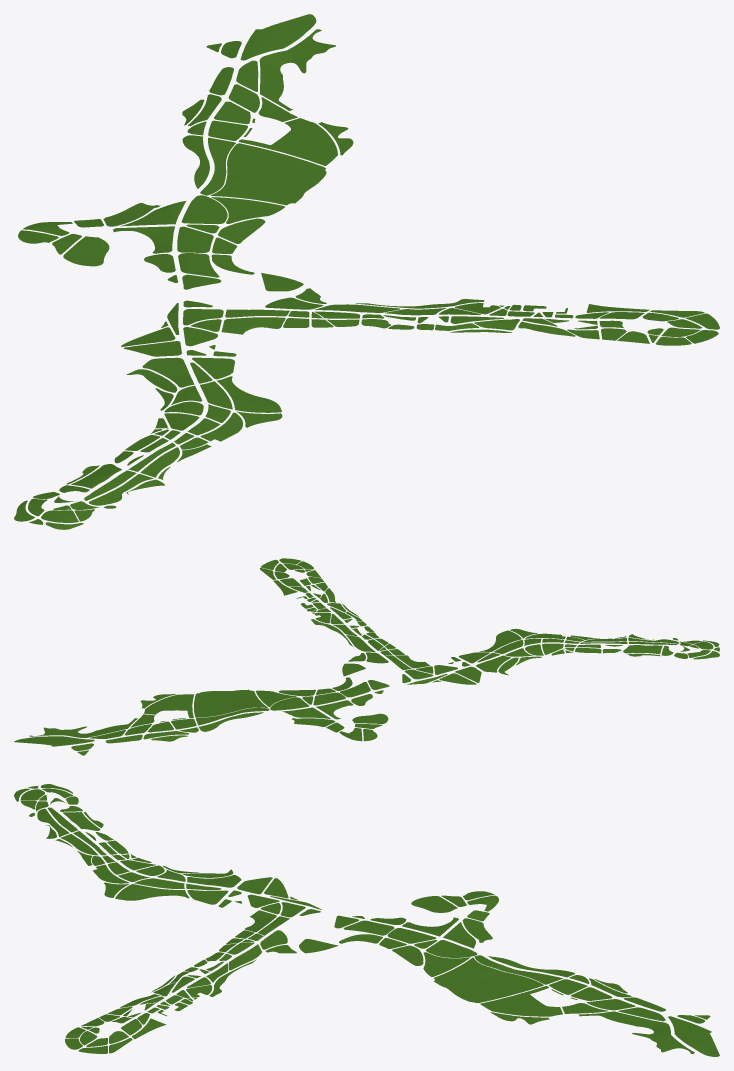
File: 16_Walking_Area.glb
The picture shows the model from 3 angles, top to bottom: view 1: azimuth 30°, elevation 25°; view 2: azimuth 150°, elevation 25°; view 3: azimuth 270°, elevation 25°; orthographic projection. The views are drawn at different scales.
Visible parts, largest first — view 1: 16_Walking_Area; view 2: 16_Walking_Area; view 3: 16_Walking_Area.
Boxes of the visible parts, bbox=[...] form: 16_Walking_Area: bbox=[14, 14, 719, 529]; 16_Walking_Area: bbox=[14, 558, 719, 755]; 16_Walking_Area: bbox=[14, 784, 719, 1056].
Bounding box in the file's own units: 1057 × 5.5 × 1154.
